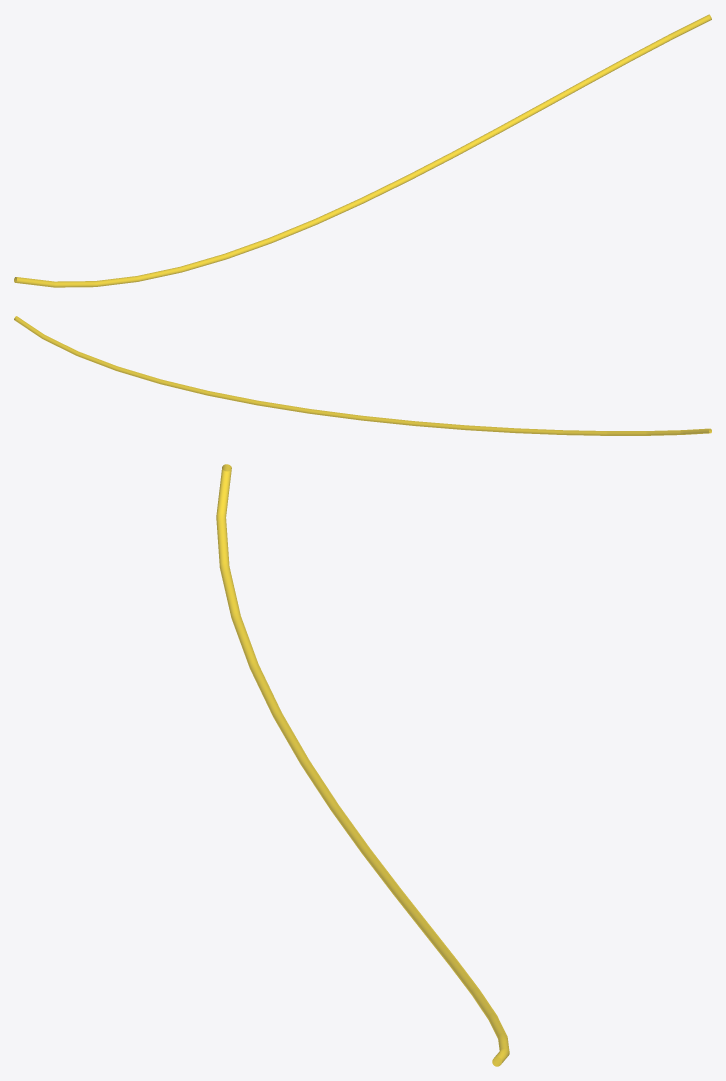
The model's file is Event_84804159_track_64.fbx.
The picture shows the model from 3 angles, top to bottom: view 1: azimuth 30°, elevation 25°; view 2: azimuth 150°, elevation 25°; view 3: azimuth 270°, elevation 25°; orthographic projection. The views are drawn at different scales.
Parts seen in each view (by area): view 1: Model; view 2: Model; view 3: Model.
Part boxes in pixels (bbox=[...]): Model: bbox=[14, 14, 711, 287]; Model: bbox=[14, 316, 711, 435]; Model: bbox=[216, 464, 509, 1066].
Size of the model in its own units: 5.92 by 0.4684 by 1.2.
